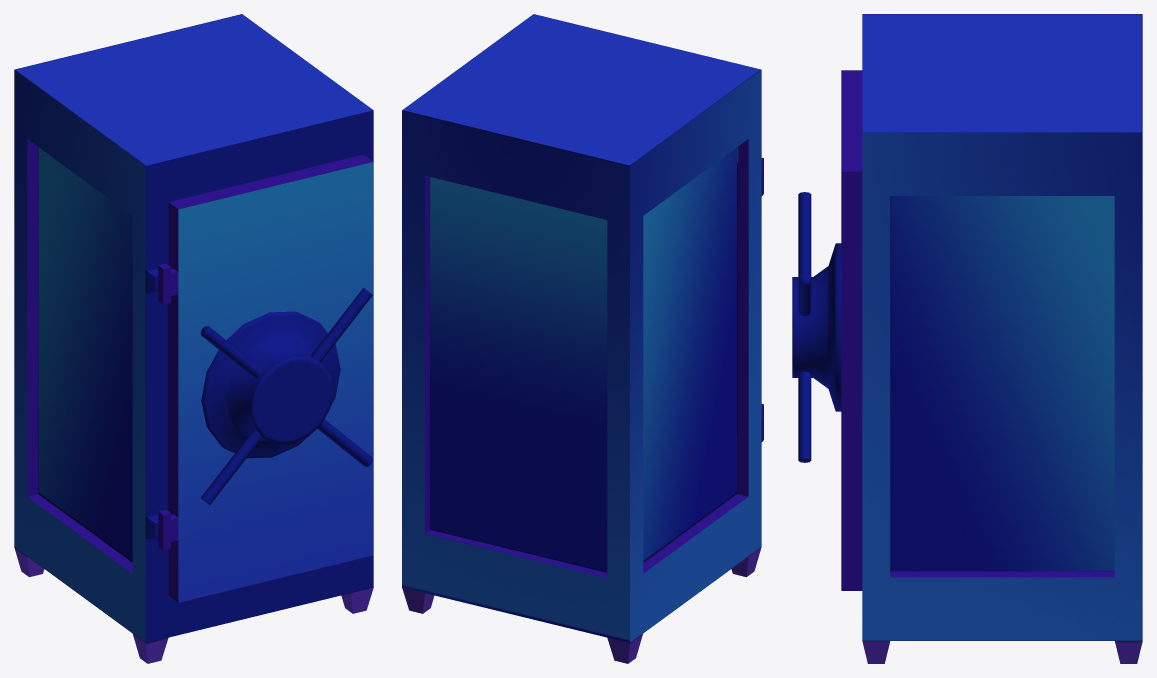
The model's file is safe_model2.gltf.
3 renders of one model, left to right at view 1: azimuth 30°, elevation 25°; view 2: azimuth 150°, elevation 25°; view 3: azimuth 270°, elevation 25°, orthographic. The views are drawn at different scales.
Visible parts, largest first — view 1: safe_model, door_model, doorhandle_model; view 2: safe_model; view 3: safe_model, door_model, doorhandle_model.
Boxes of the visible parts, left/top/right/bottom form: safe_model: left=14, top=14, right=373, bottom=663; door_model: left=158, top=154, right=373, bottom=602; doorhandle_model: left=200, top=288, right=372, bottom=504; safe_model: left=402, top=14, right=763, bottom=663; safe_model: left=862, top=14, right=1142, bottom=663; door_model: left=841, top=70, right=862, bottom=590; doorhandle_model: left=792, top=192, right=841, bottom=462.
Size of the model in its own units: 2 by 4.2 by 2.5.
5 materials, 4 textured.
